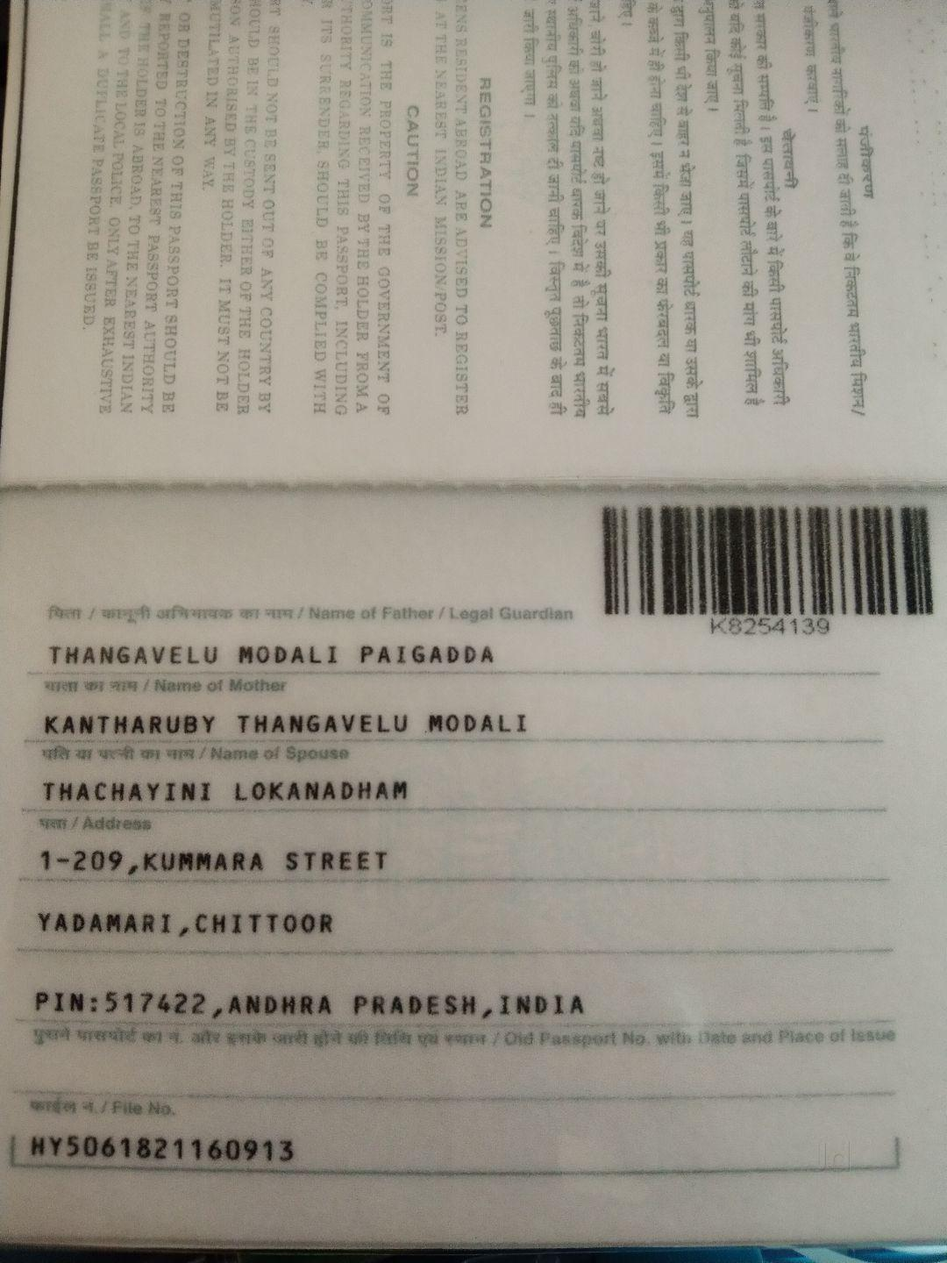File_no: (25, 1126, 307, 1172)
address: (19, 832, 618, 1025)
father_name: (37, 634, 504, 675)
mother_name: (26, 702, 537, 746)
passport_no: (699, 607, 853, 655)
spouse_name: (24, 767, 428, 808)
